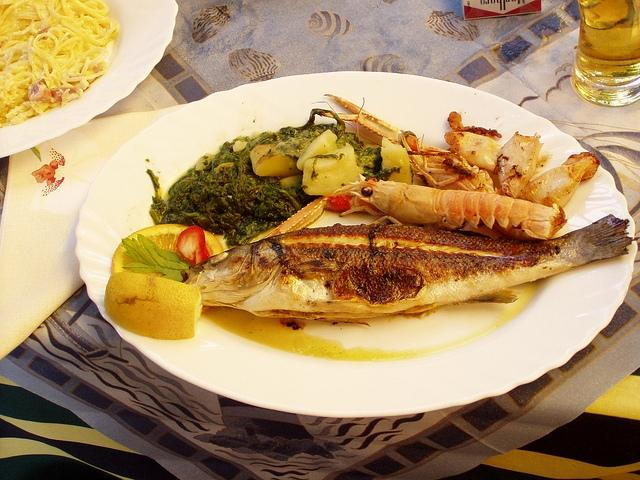lemon: (104, 271, 202, 340), (112, 223, 225, 278)
